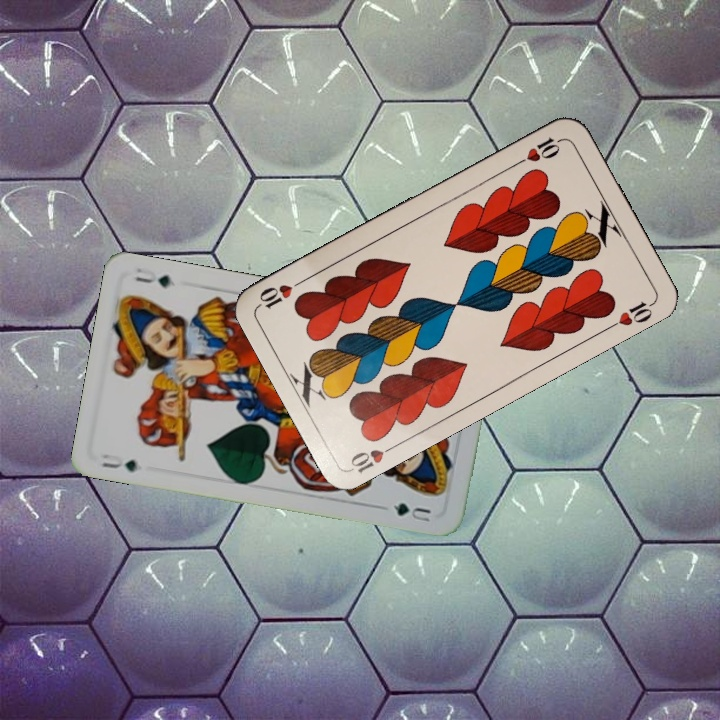GU: (96, 449, 140, 475)
H10: (346, 439, 401, 476), (511, 133, 565, 169)
